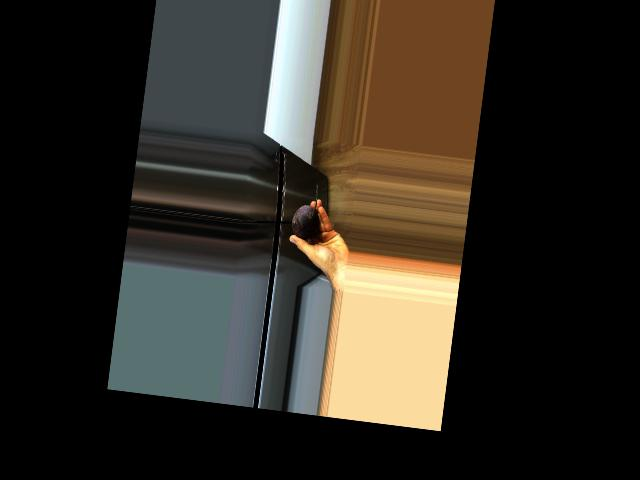beet: (290, 180, 323, 240)
